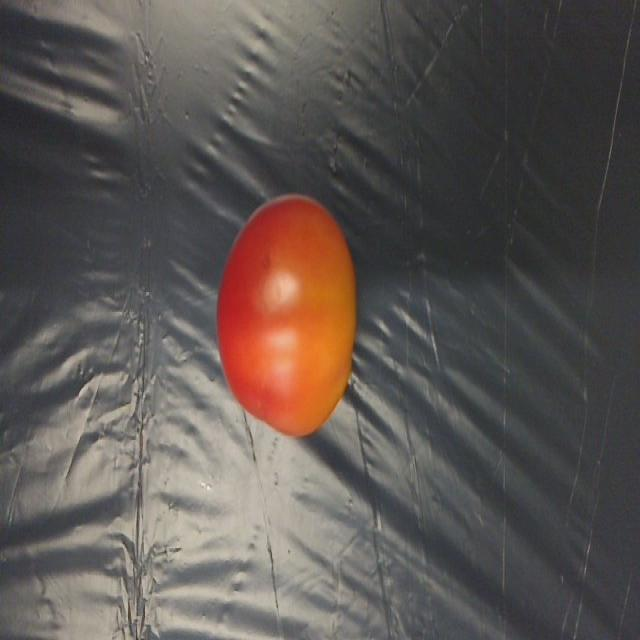sari: (213, 182, 376, 448)
